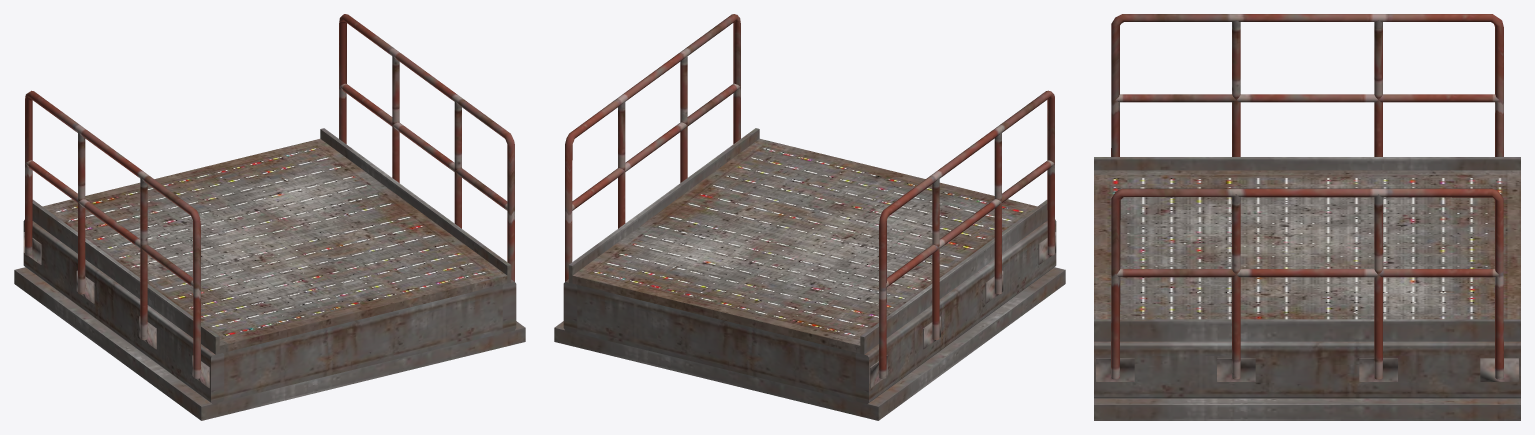
The model's file is walkway_b_300x300_double.glb.
3 views of the same model, side by side, from view 1: azimuth 30°, elevation 25°; view 2: azimuth 150°, elevation 25°; view 3: azimuth 270°, elevation 25° (orthographic). The views are drawn at different scales.
Visible parts, largest first — view 1: walkway_b_300x300_double; view 2: walkway_b_300x300_double; view 3: walkway_b_300x300_double.
Part boxes in pixels (bbox=[...]): walkway_b_300x300_double: bbox=[14, 14, 525, 420]; walkway_b_300x300_double: bbox=[554, 14, 1065, 420]; walkway_b_300x300_double: bbox=[1094, 14, 1520, 420].
Bounding box in the file's own units: 3 × 1.78 × 3.
Materials: 1 (1 with a texture image).
